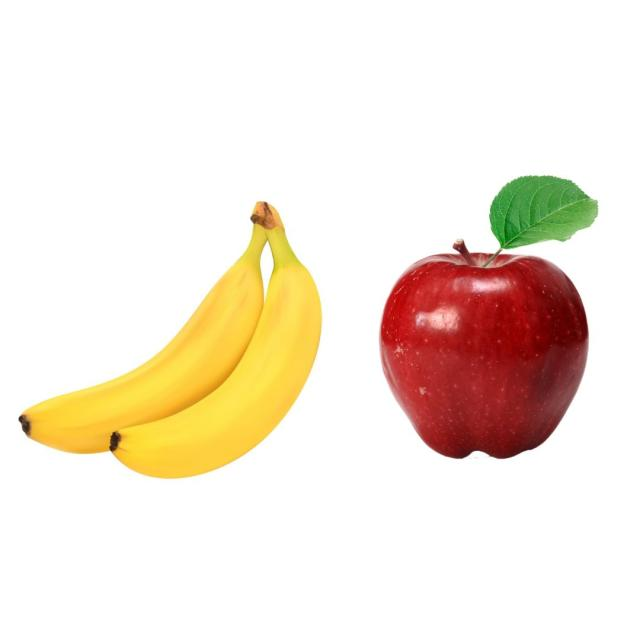Apel: (378, 248, 598, 460)
Pisang: (19, 199, 322, 480)
